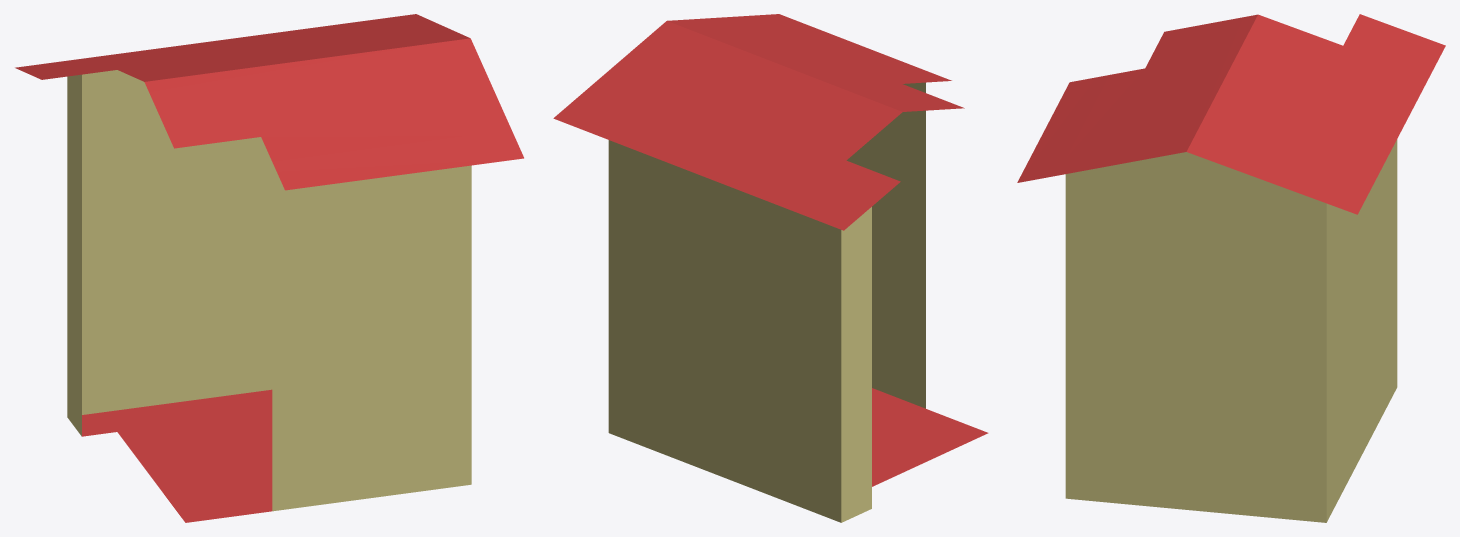
3 views of the same model, side by side, from view 1: azimuth 30°, elevation 25°; view 2: azimuth 150°, elevation 25°; view 3: azimuth 270°, elevation 25° (orthographic). The views are drawn at different scales.
Visible parts, largest first — view 1: group_5, group_3, group_6, group_4; view 2: group_5, group_3, group_6, group_4; view 3: group_5, group_3, group_4.
Boxes of the visible parts, left/top/right/bottom form: group_5: left=67, top=70, right=471, bottom=511; group_3: left=15, top=14, right=523, bottom=190; group_6: left=82, top=389, right=272, bottom=522; group_4: left=44, top=15, right=521, bottom=189; group_5: left=608, top=82, right=925, bottom=522; group_3: left=553, top=14, right=964, bottom=230; group_6: left=872, top=388, right=988, bottom=486; group_4: left=556, top=16, right=948, bottom=195; group_5: left=1065, top=139, right=1397, bottom=522; group_3: left=1017, top=14, right=1445, bottom=214; group_4: left=1020, top=16, right=1395, bottom=213.
Size of the model in its own units: 7.7 by 7.88 by 7.61.
